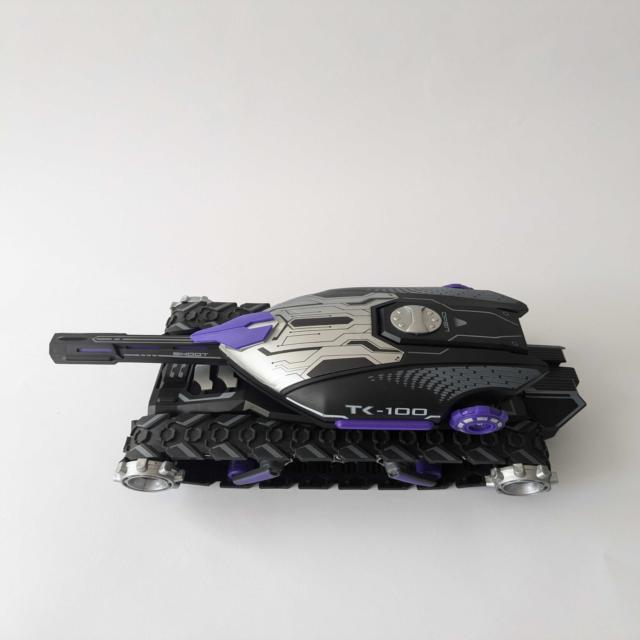barrel: (48, 332, 228, 366)
